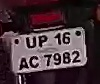1: (53, 32, 63, 47)
2: (72, 48, 82, 66)
6: (61, 30, 72, 47)
7: (42, 51, 54, 69)
8: (61, 50, 72, 67)
9: (50, 48, 62, 69)
A: (18, 57, 29, 72)
C: (27, 53, 43, 71)
P: (38, 33, 48, 49)
U: (24, 33, 38, 51)
